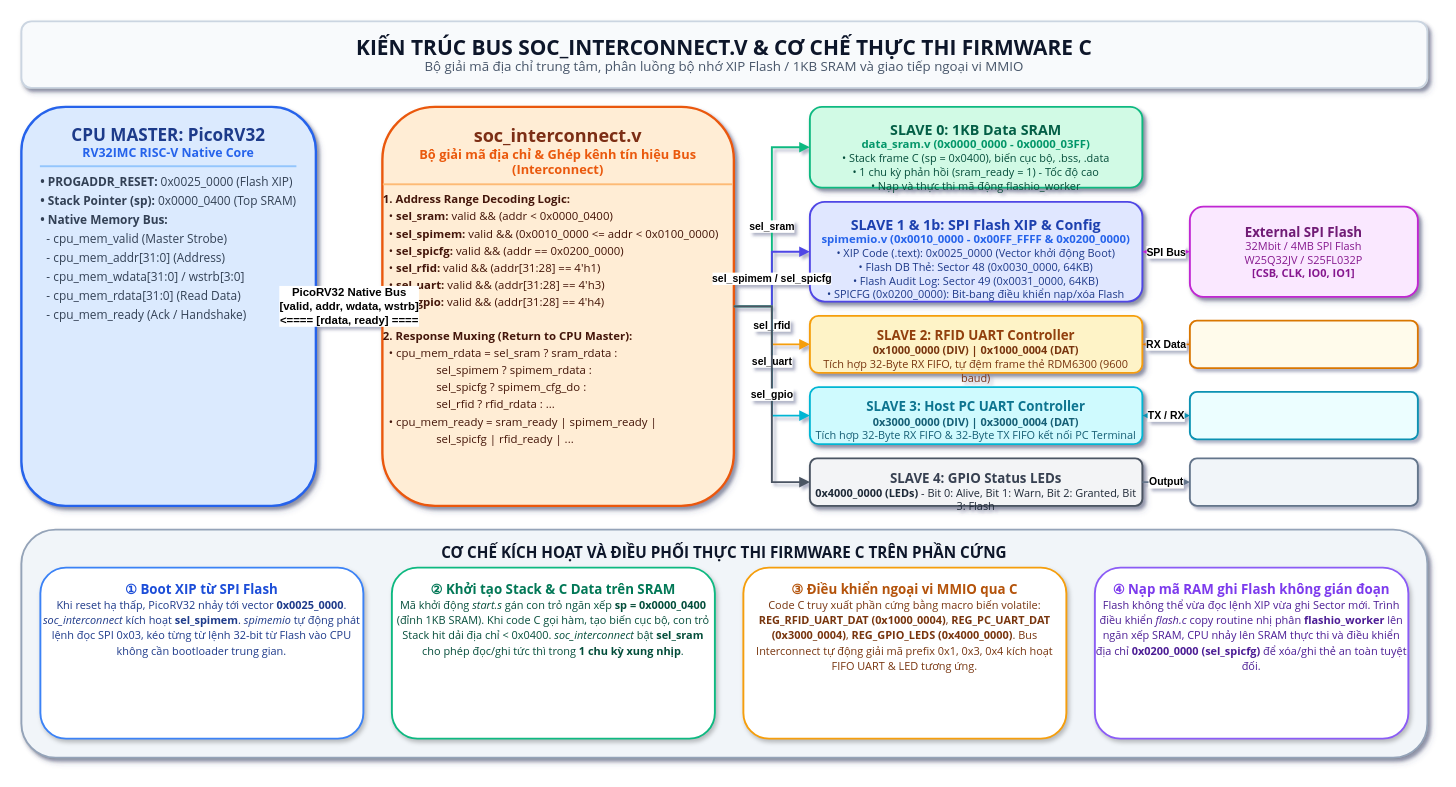
This 1456x787 diagram has some shape labels left out. Here are the shapes that lost their labels. From the top down, the centre of each, then its label:
(x=1303, y=344): RDM6300 RFID 125 kHz UART
(x=1303, y=415): Host PC Terminal USB-UART Bridge
(x=1303, y=481): 16x LEDs / Relay Basys 3 Diagnostic
